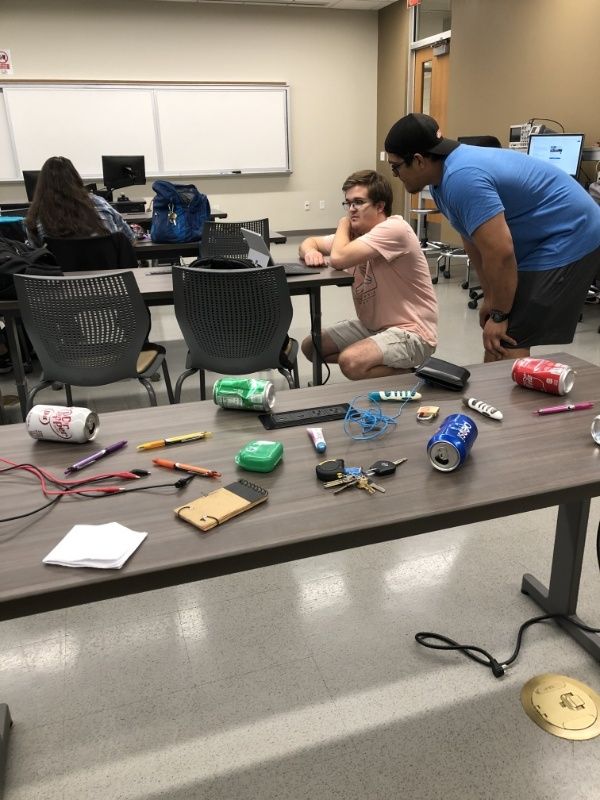can: (20, 399, 109, 445), (423, 409, 481, 475), (508, 355, 581, 399), (210, 374, 278, 413)
